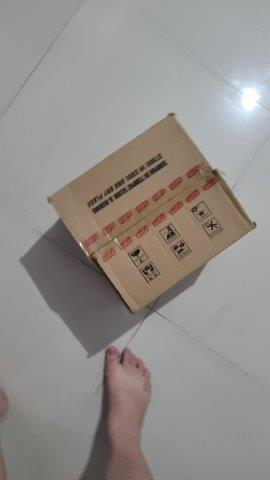kardus: (49, 115, 255, 311)
